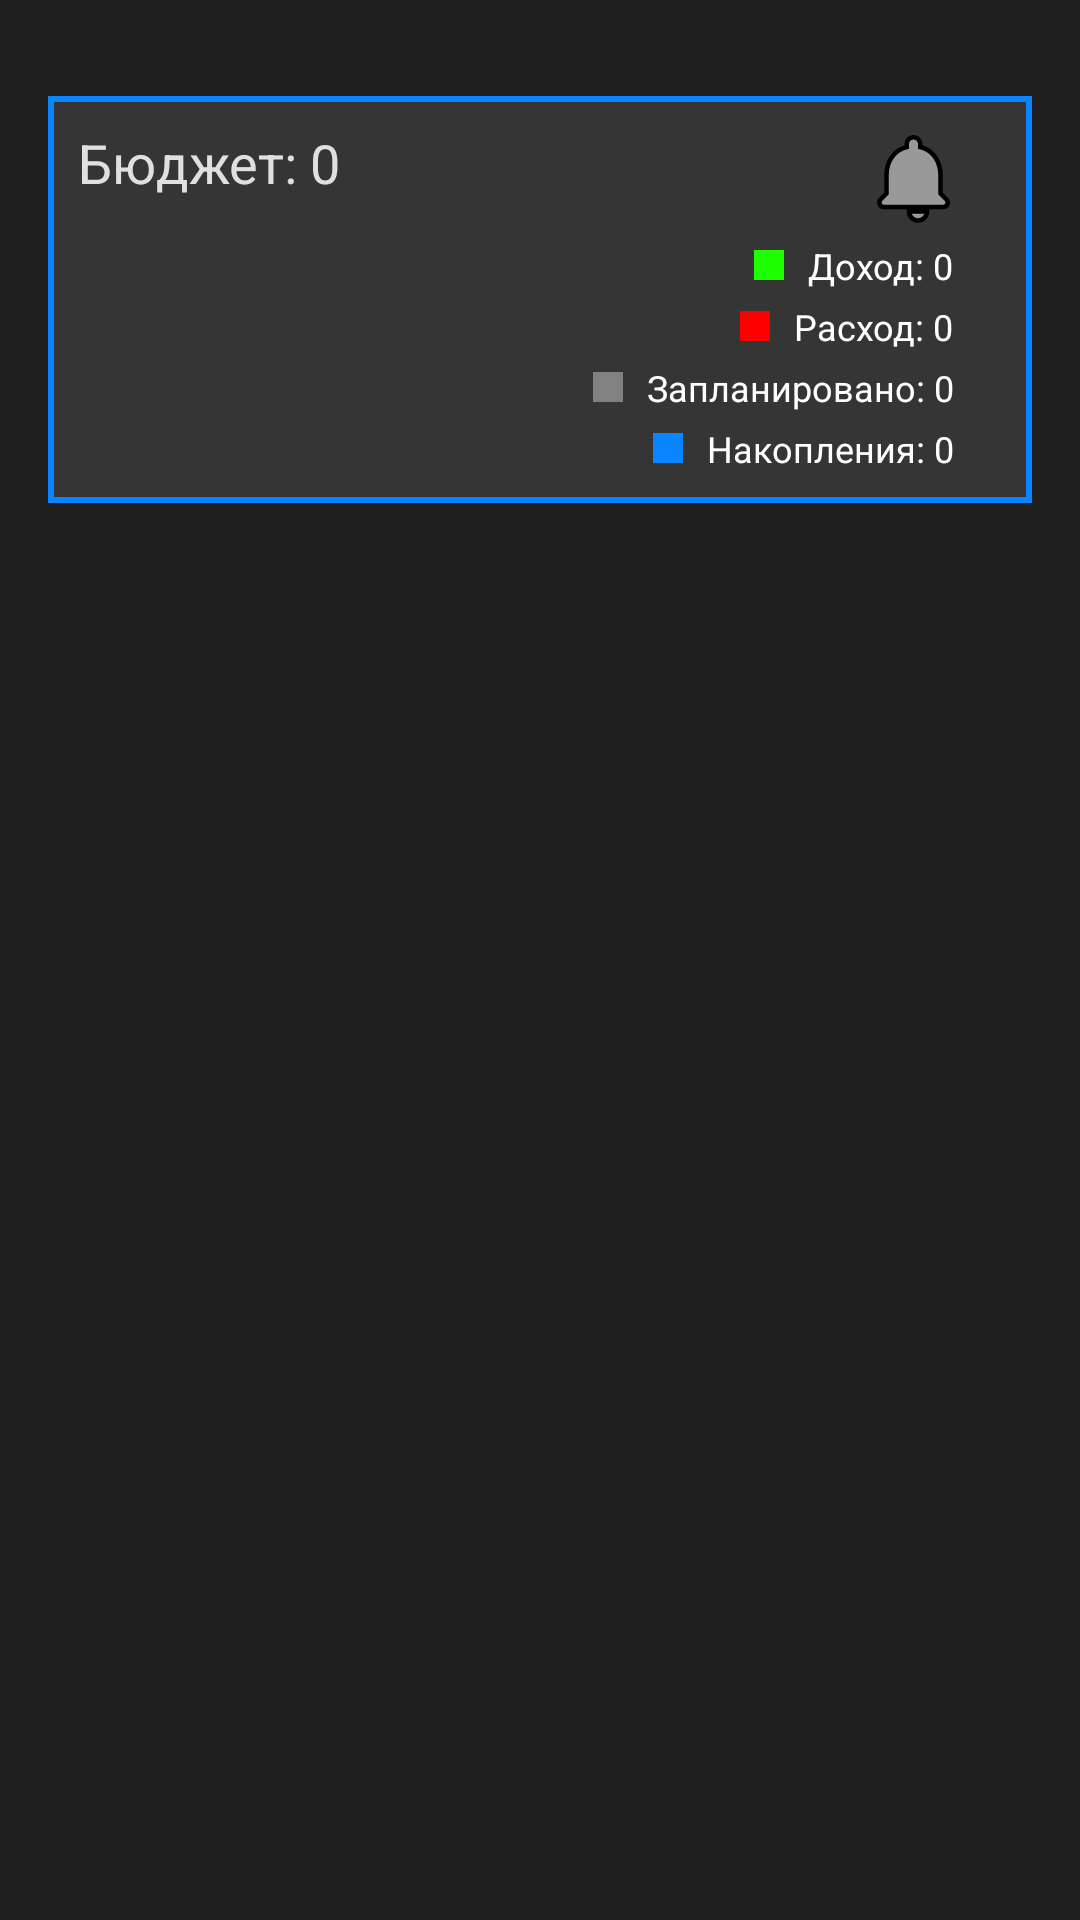

Where to tap for icons on this 1080 x 1920 app screen, as (x=x, y=y):
notifications: (x=913, y=179)
